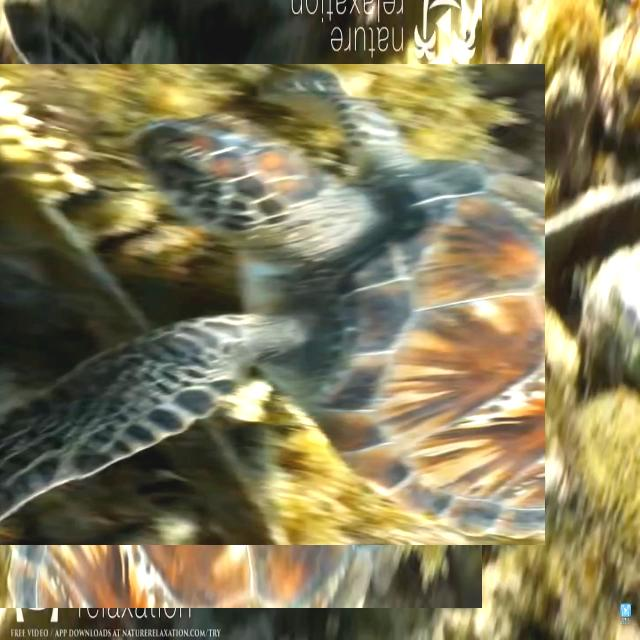Sea turtle: (0, 31, 513, 576)
